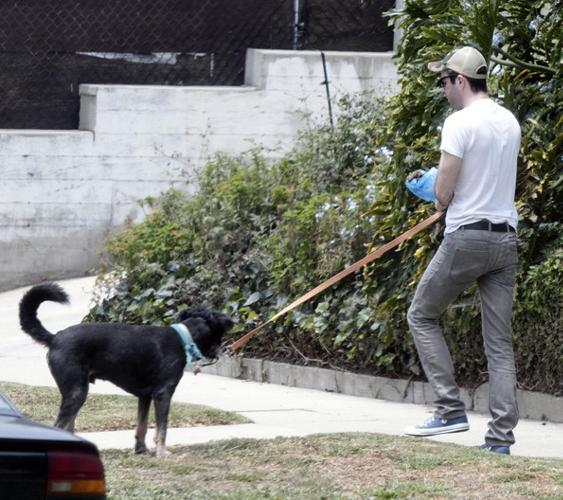person: (408, 45, 521, 453)
